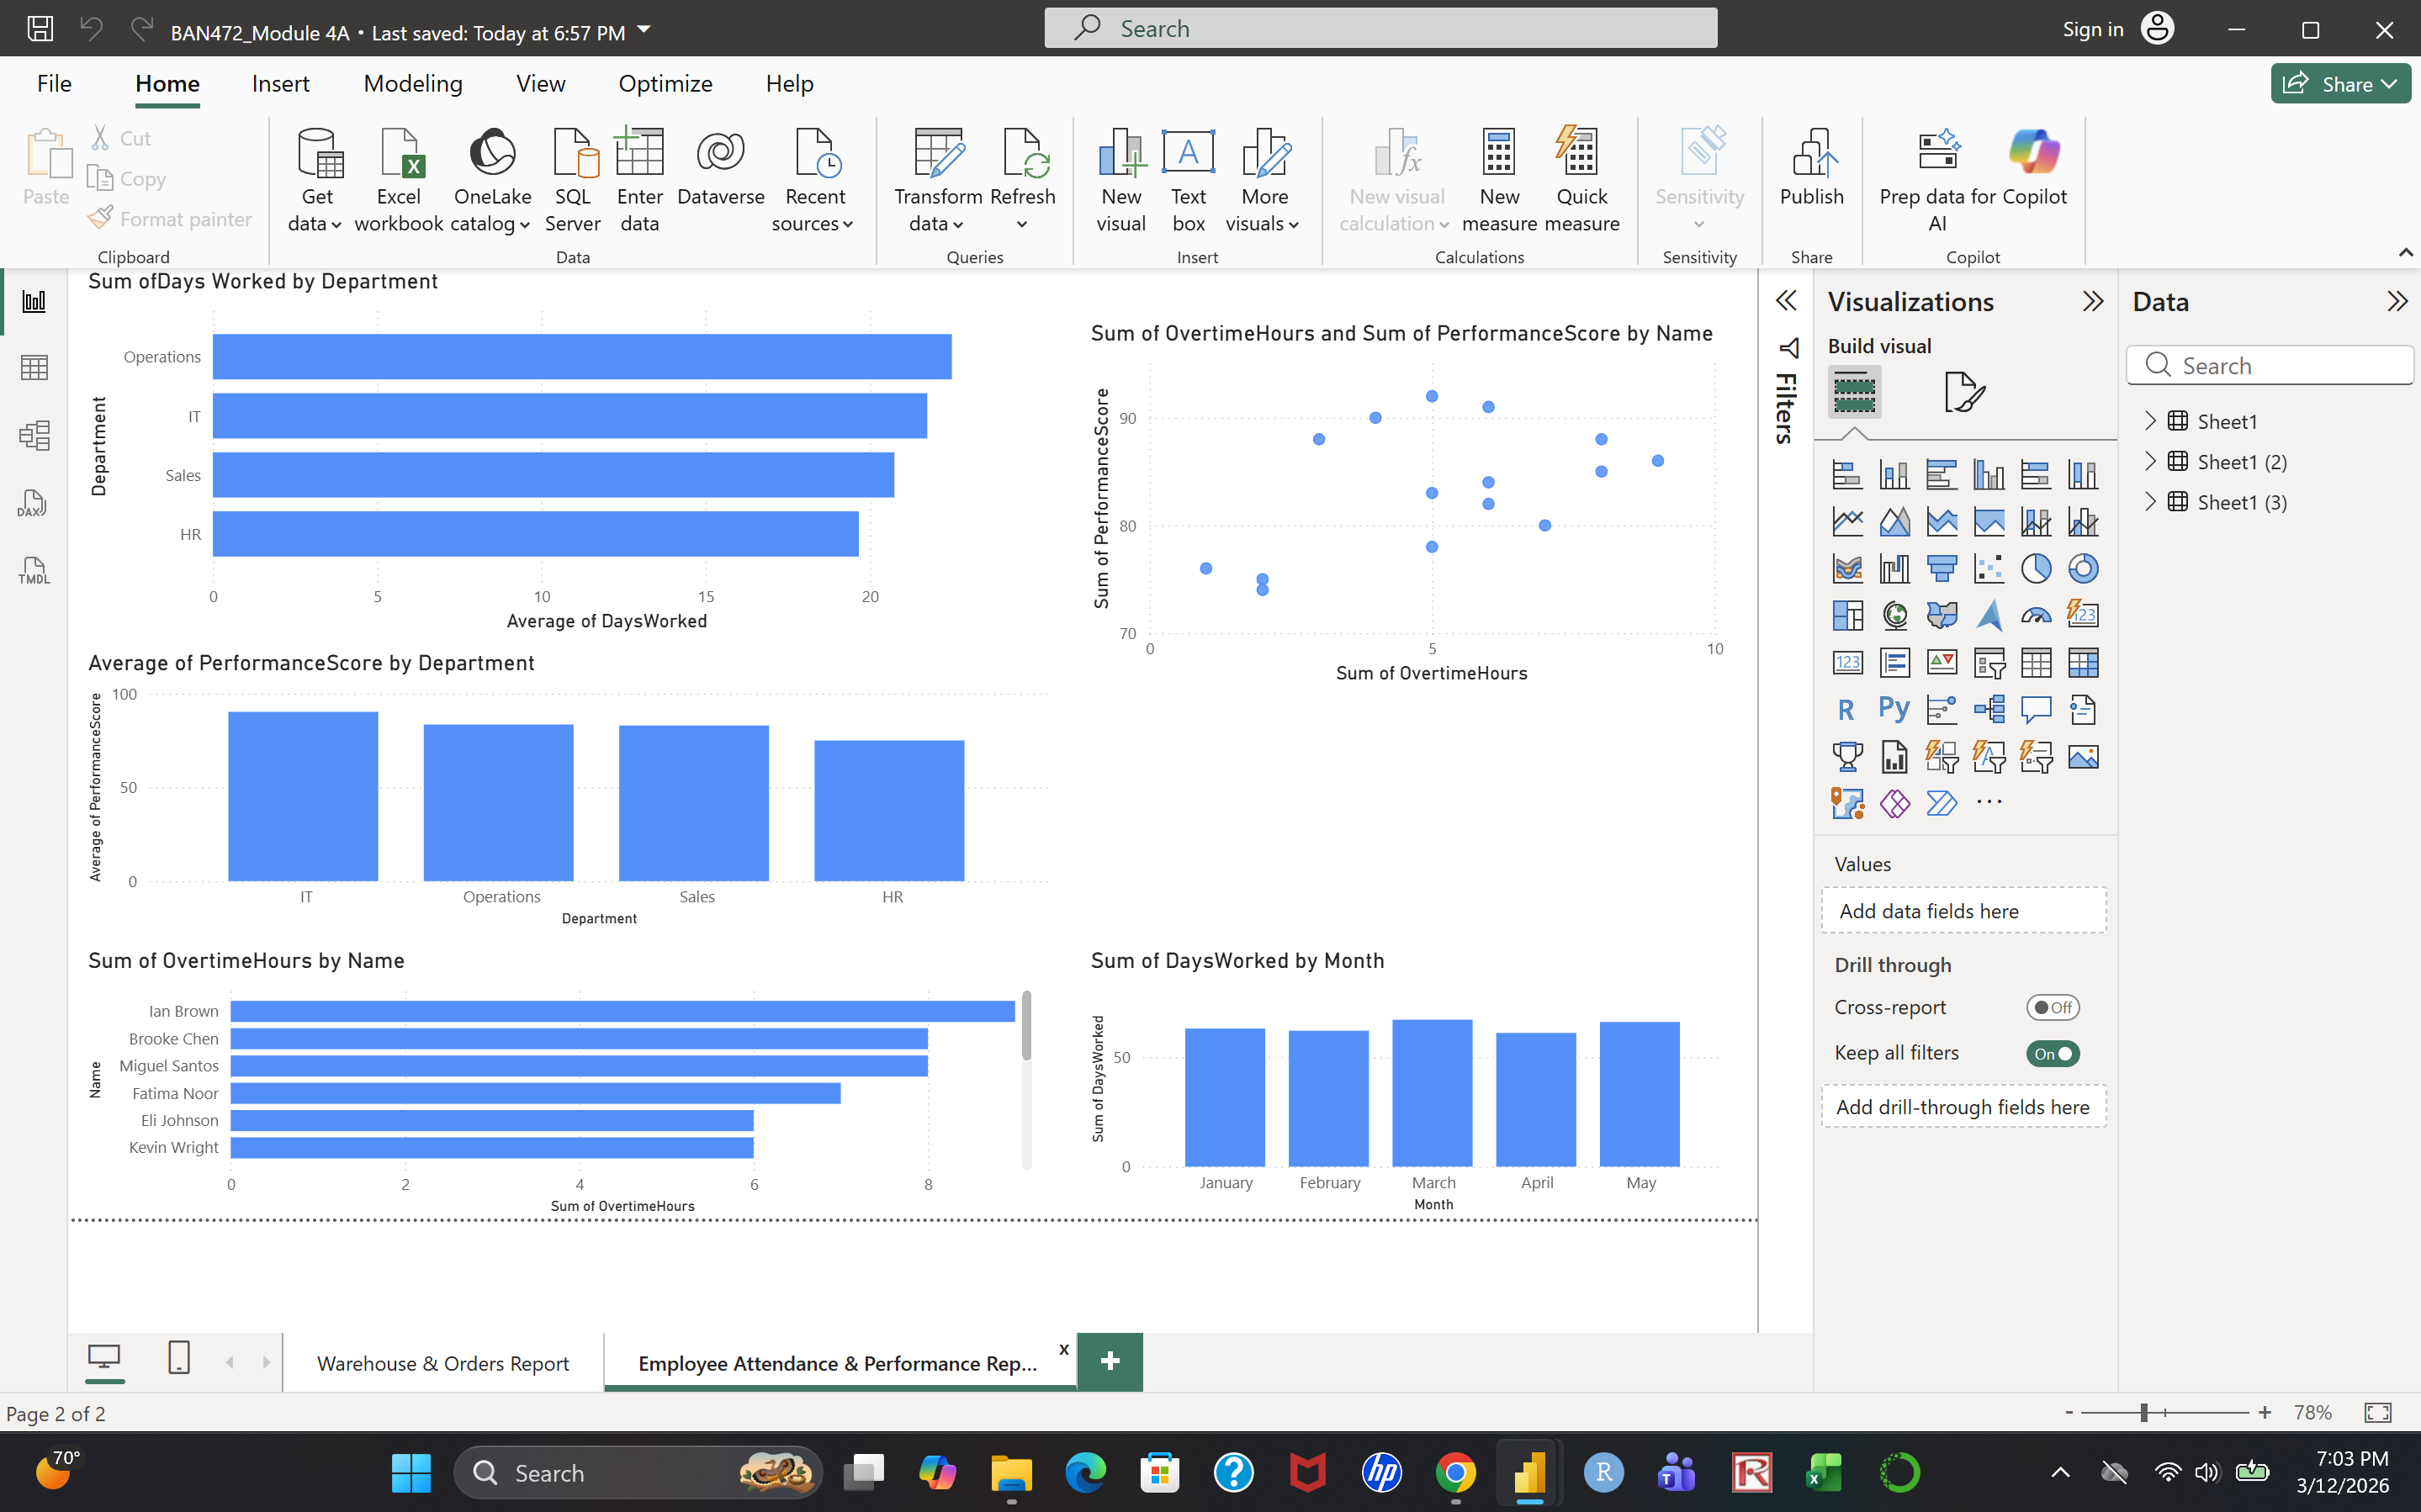

The page's visual inventory and layout, read from the dashboard file:
{"tool":"powerbi","page":{"name":"Employee Attendance & Performance Report","canvas":[1280,720],"ordinal":1},"visuals":[{"type":"clusteredBarChart","title":"Sum ofDays Worked by Department","fields":{"Category":["Sheet1 (3).Department"],"Y":["Avg(Sheet1 (3).DaysWorked)"]},"box":[10.2,0,708.8,280.5],"z":0},{"type":"clusteredColumnChart","fields":{"Category":["Sheet1 (3).Department"],"Y":["Avg(Sheet1 (3).PerformanceScore)"]},"box":[10.2,289.4,738.2,214.2],"z":1000},{"type":"barChart","fields":{"Category":["Sheet1 (3).Name"],"Y":["Sum(Sheet1 (3).OvertimeHours)"]},"box":[10.2,515.1,725.4,206.5],"z":2000},{"type":"scatterChart","fields":{"X":["Sum(Sheet1 (3).OvertimeHours)"],"Y":["Sum(Sheet1 (3).PerformanceScore)"],"Category":["Sheet1 (3).Name"]},"box":[770,39.5,489.6,280.5],"z":3000},{"type":"clusteredColumnChart","fields":{"Y":["Sum(Sheet1 (3).DaysWorked)"],"Category":["Sheet1 (3).Month.Variation.Date Hierarchy.Month"]},"box":[770,515,490,205],"z":3001}]}

Visuals, with their boxes on the page's 1280x720 design canvas (x1, y1, x2, y2). These are canvas units, not pixel positions in the 2421x1512 screenshot, which may show the page scaled, cropped or inside an application window:
"Sum ofDays Worked by Department" clusteredBarChart: 10, 0, 719, 280
clusteredColumnChart - Sheet1 (3).Department x Avg(Sheet1 (3).PerformanceScore): 10, 289, 748, 504
barChart - Sheet1 (3).Name x Sum(Sheet1 (3).OvertimeHours): 10, 515, 736, 722
scatterChart - Sum(Sheet1 (3).OvertimeHours) x Sum(Sheet1 (3).PerformanceScore): 770, 40, 1260, 320
clusteredColumnChart - Sum(Sheet1 (3).DaysWorked) x Sheet1 (3).Month.Variation.Date Hierarchy.Month: 770, 515, 1260, 720
